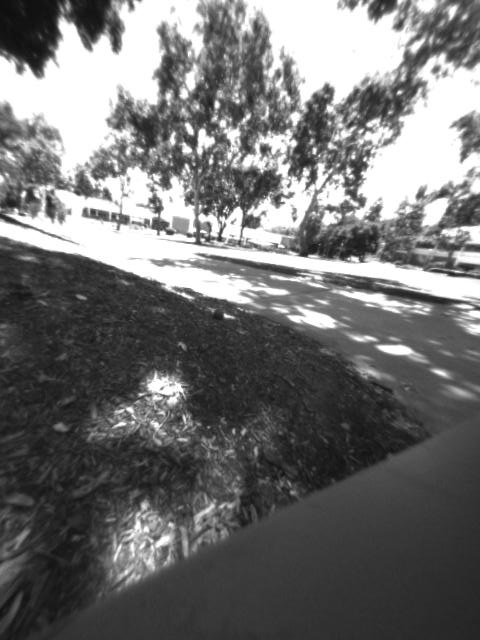dogtoy: (208, 300, 230, 325)
